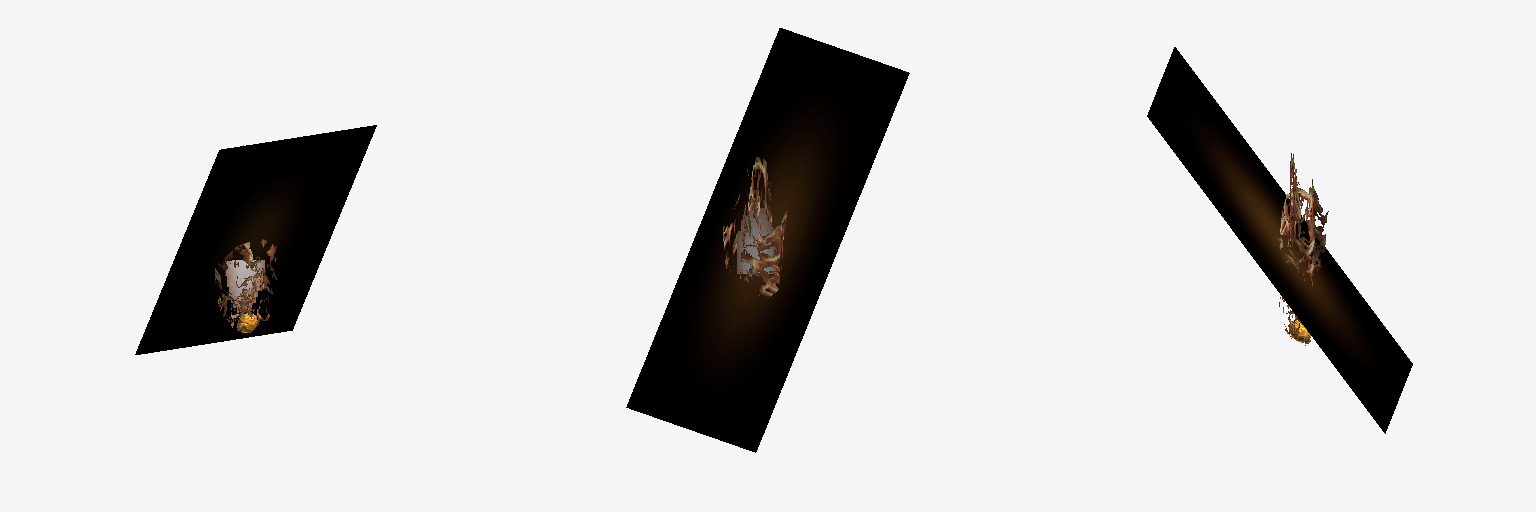
3 renders of one model, left to right at view 1: azimuth 30°, elevation 25°; view 2: azimuth 150°, elevation 25°; view 3: azimuth 270°, elevation 25°, orthographic.
Visible parts, largest first — view 1: spells_meteor_fast.m2_Geoset_001, spells_meteor_fast.m2_Geoset_003, spells_meteor_fast.m2_Geoset_004; view 2: spells_meteor_fast.m2_Geoset_001, spells_meteor_fast.m2_Geoset_003, spells_meteor_fast.m2_Geoset_004; view 3: spells_meteor_fast.m2_Geoset_001, spells_meteor_fast.m2_Geoset_003.
Boxes of the visible parts, x1=… form: spells_meteor_fast.m2_Geoset_001: x1=135, y1=125, x2=376, y2=354; spells_meteor_fast.m2_Geoset_003: x1=215, y1=145, x2=276, y2=330; spells_meteor_fast.m2_Geoset_004: x1=225, y1=260, x2=264, y2=312; spells_meteor_fast.m2_Geoset_001: x1=626, y1=28, x2=909, y2=452; spells_meteor_fast.m2_Geoset_003: x1=723, y1=157, x2=786, y2=298; spells_meteor_fast.m2_Geoset_004: x1=737, y1=205, x2=777, y2=274; spells_meteor_fast.m2_Geoset_001: x1=1147, y1=47, x2=1412, y2=433; spells_meteor_fast.m2_Geoset_003: x1=1277, y1=153, x2=1328, y2=345.
Bounding box in the file's own units: 12.5 × 24.45 × 16.13.
5 materials, 4 textured.